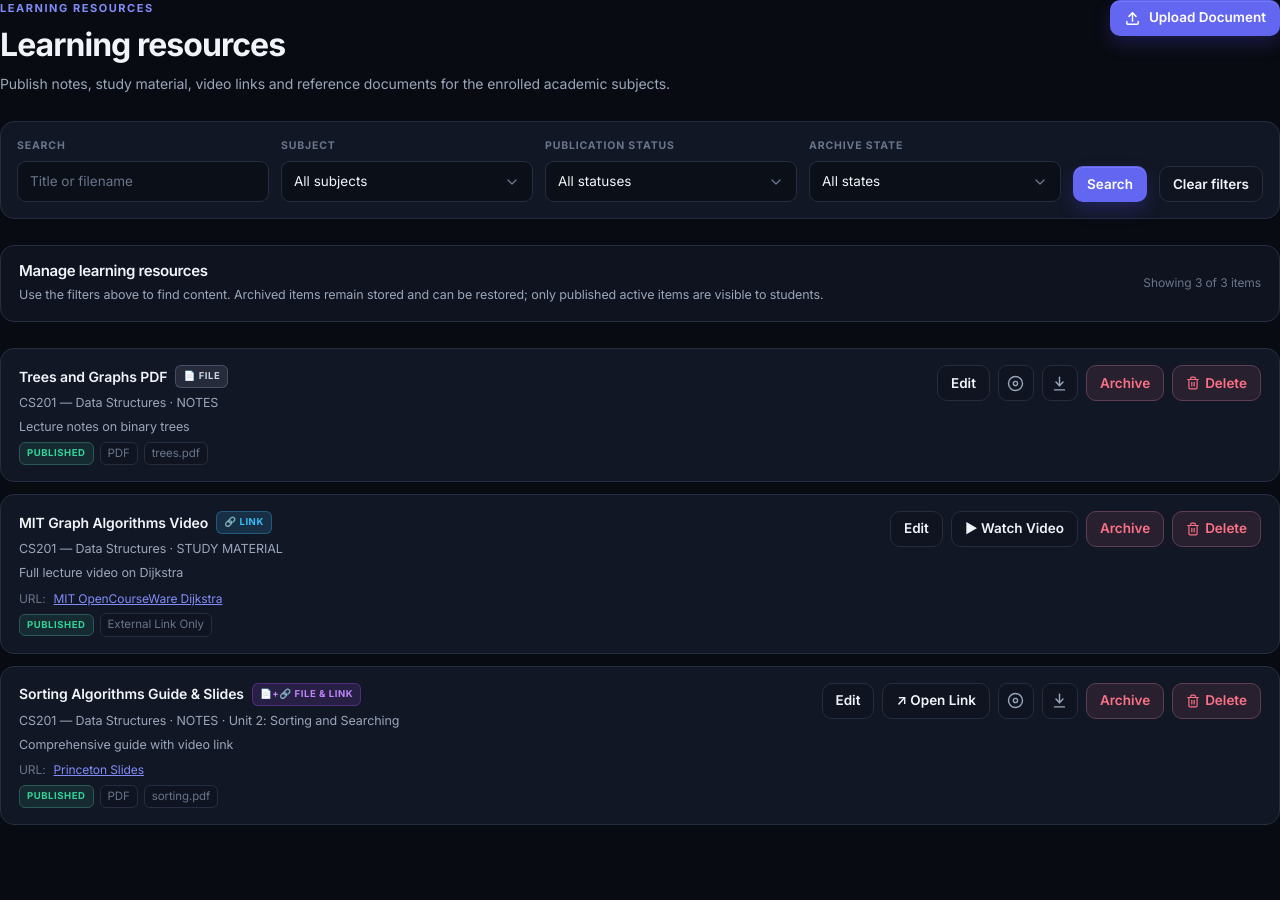
it: AdminContentManager — Learning Resource Sources (FILE, LINK, BOTH) › validates URL when External Link source is selected
Click the button "Upload Document" at [1195, 18], box [1110, 0, 1279, 36]
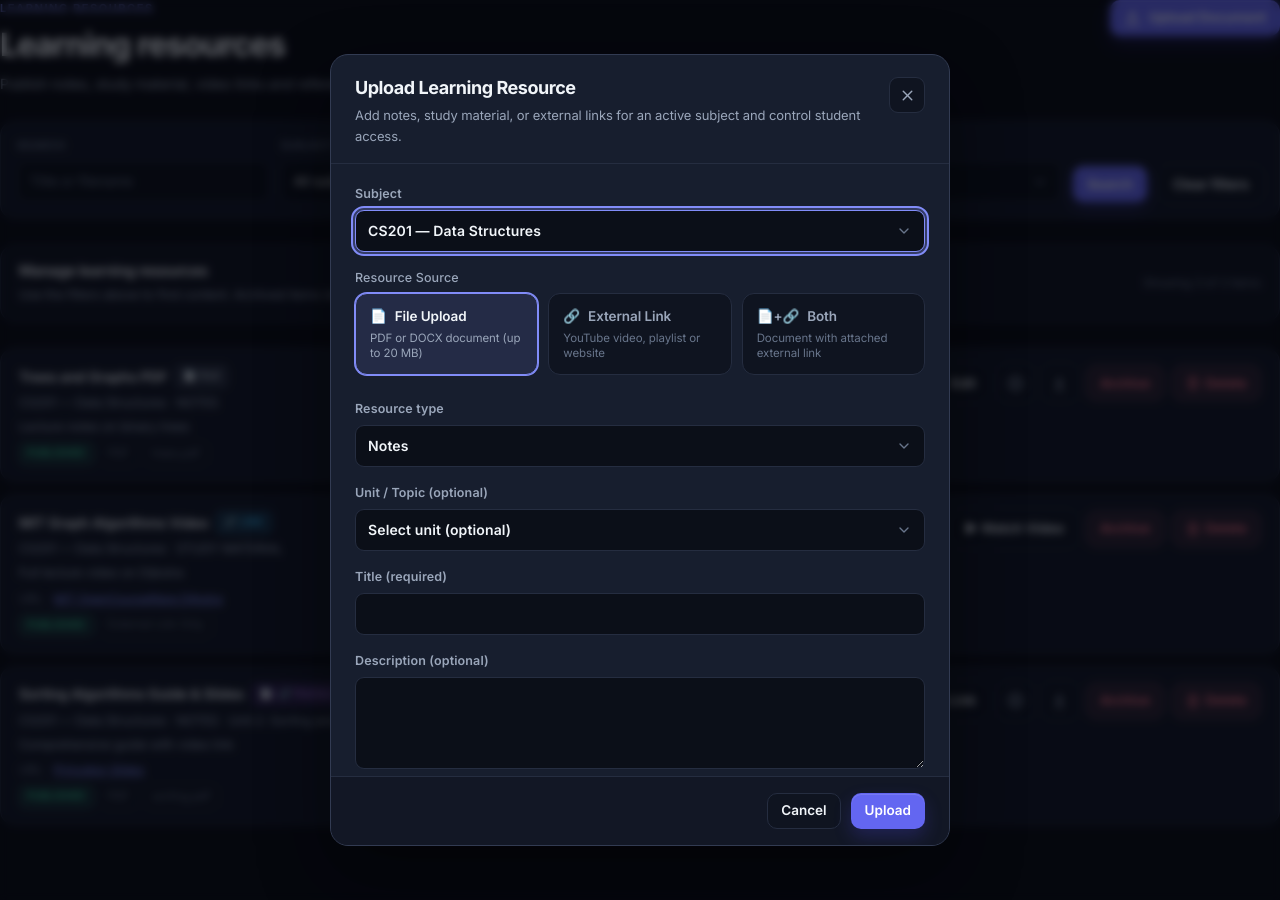
Result: the dialog is shown at [330, 54, 950, 846]
Note: Switch to External Link
Click the radio button labelled "External Link" at [640, 334], box [548, 293, 732, 375]
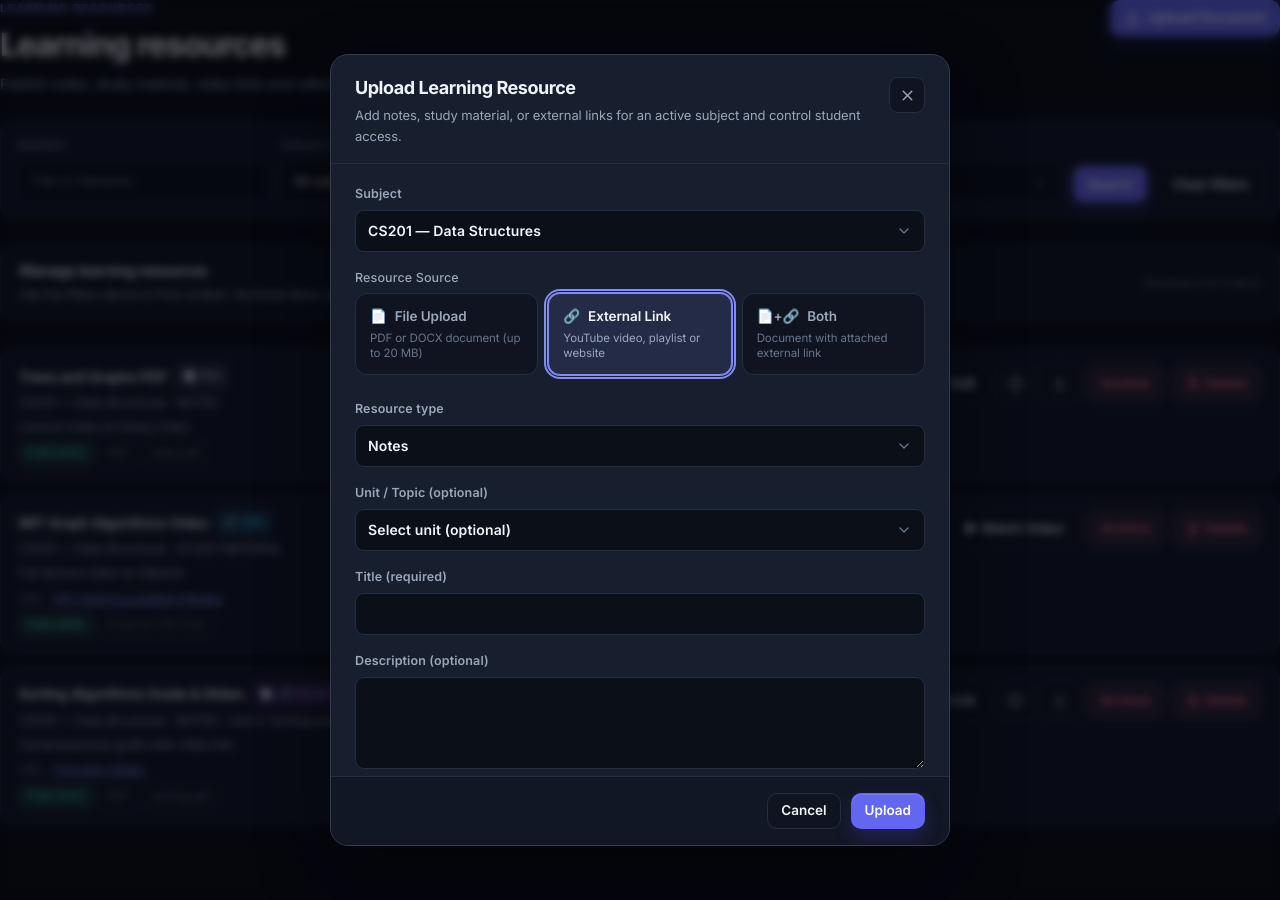
Note: Fill title but leave URL empty
Type "Awesome Course" into the field labelled "Title (required)" at [640, 614], box [355, 593, 925, 635]
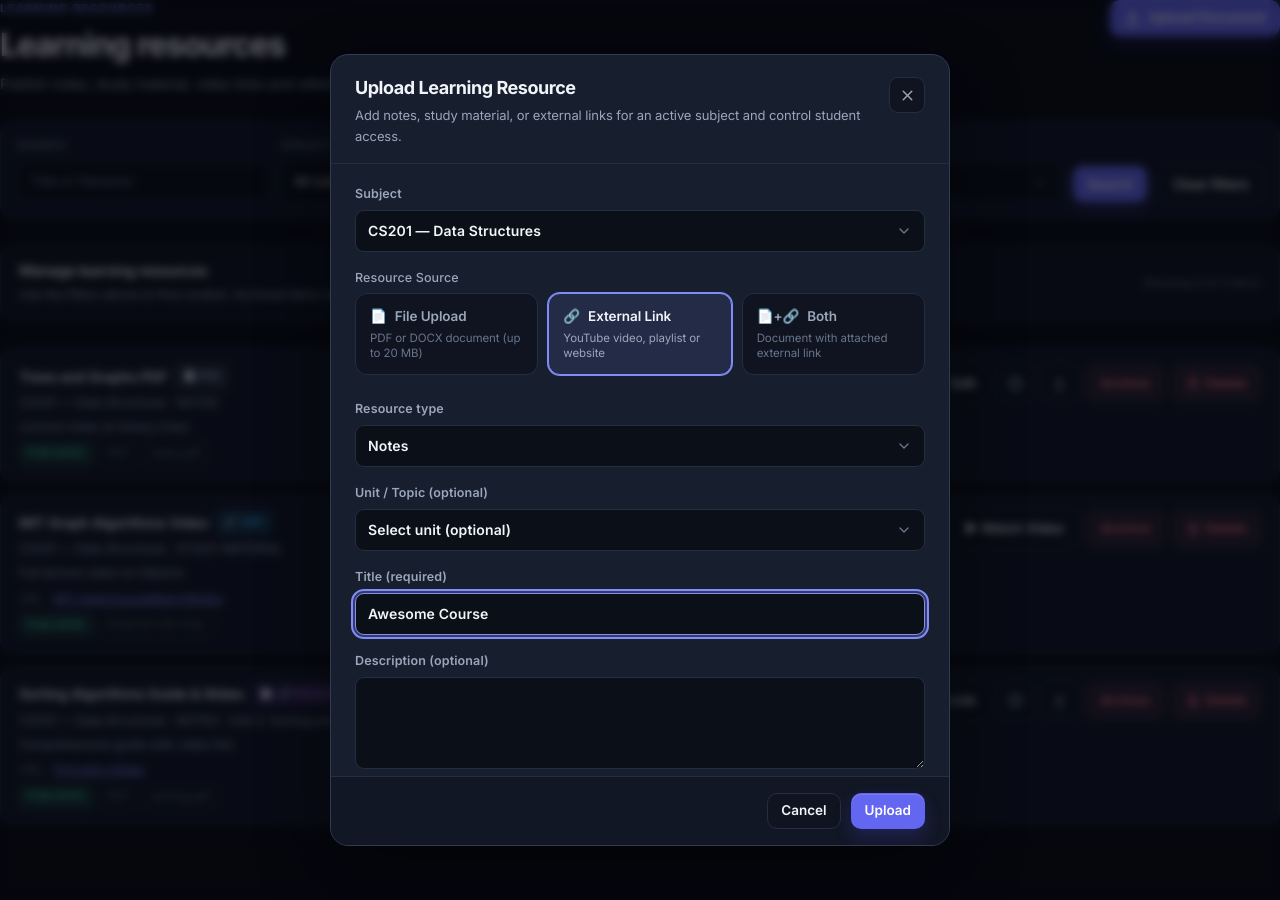
Note: Click submit
Click the button "Upload" at [888, 811], box [851, 793, 925, 829]
(page scrolled)
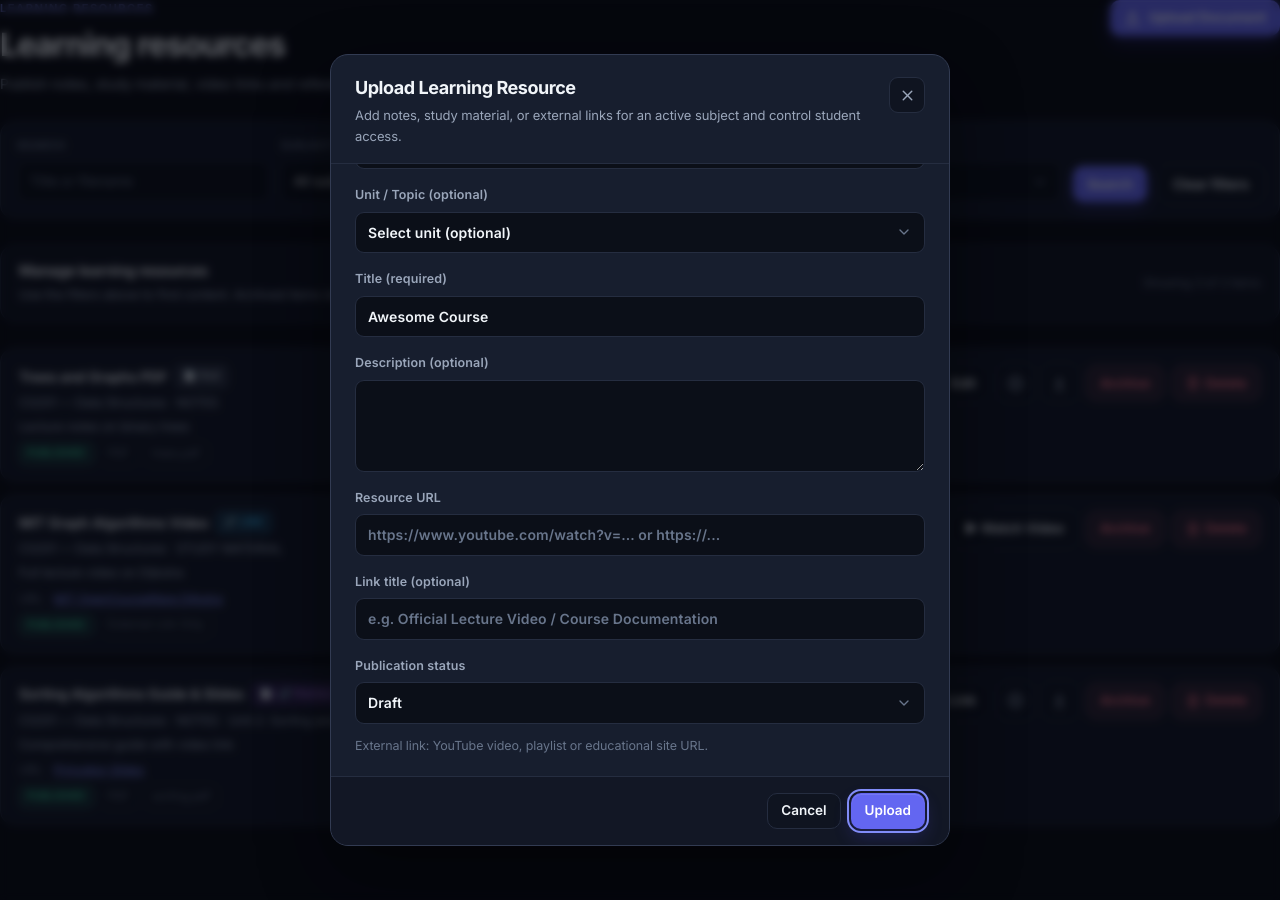
Note: Fill invalid URL
Type "not-a-valid-url" into the field with placeholder "https://www.youtube.com/watch?v=... or https://..." at [640, 535], box [355, 514, 925, 556]
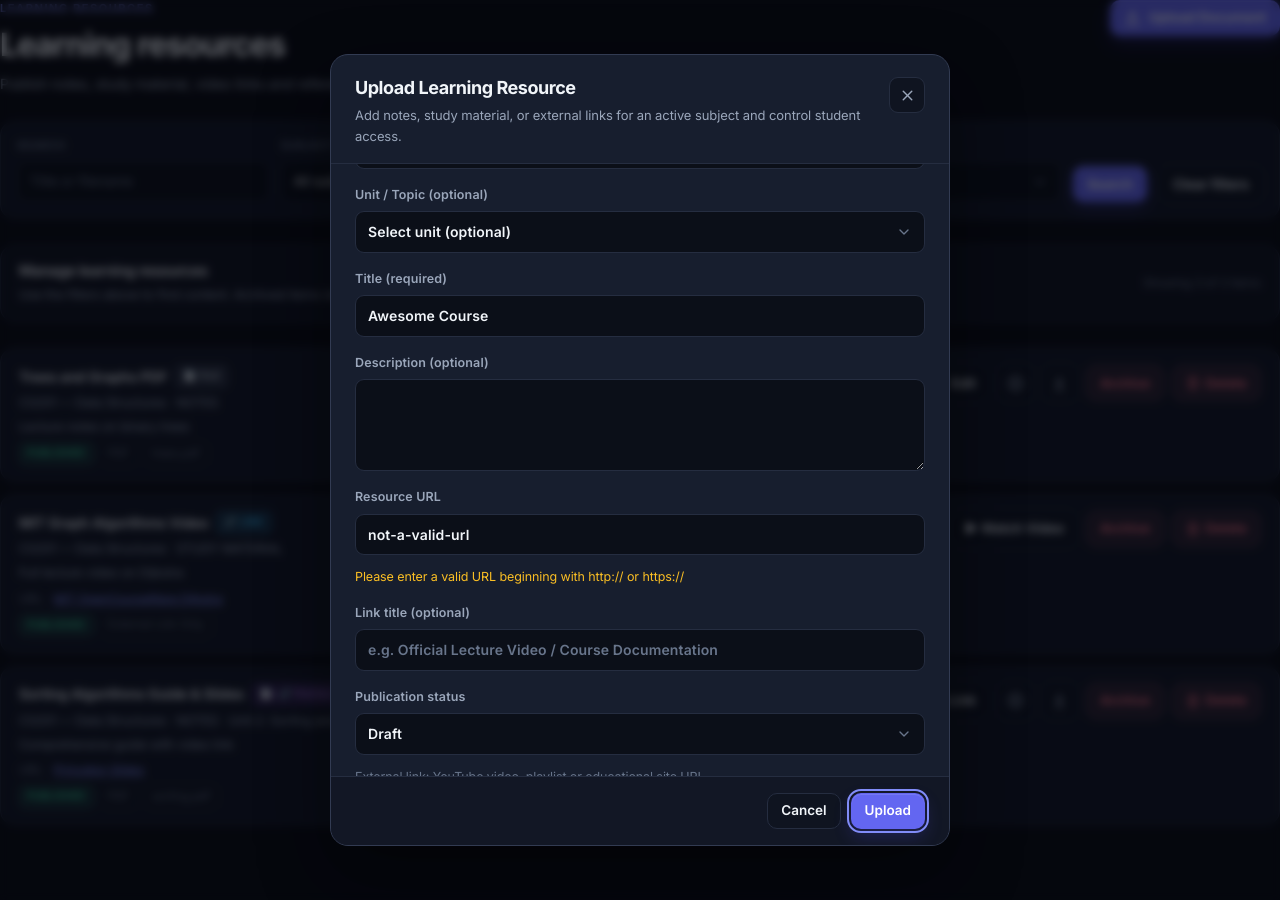
Click the button "Upload" at [888, 811], box [851, 793, 925, 829]
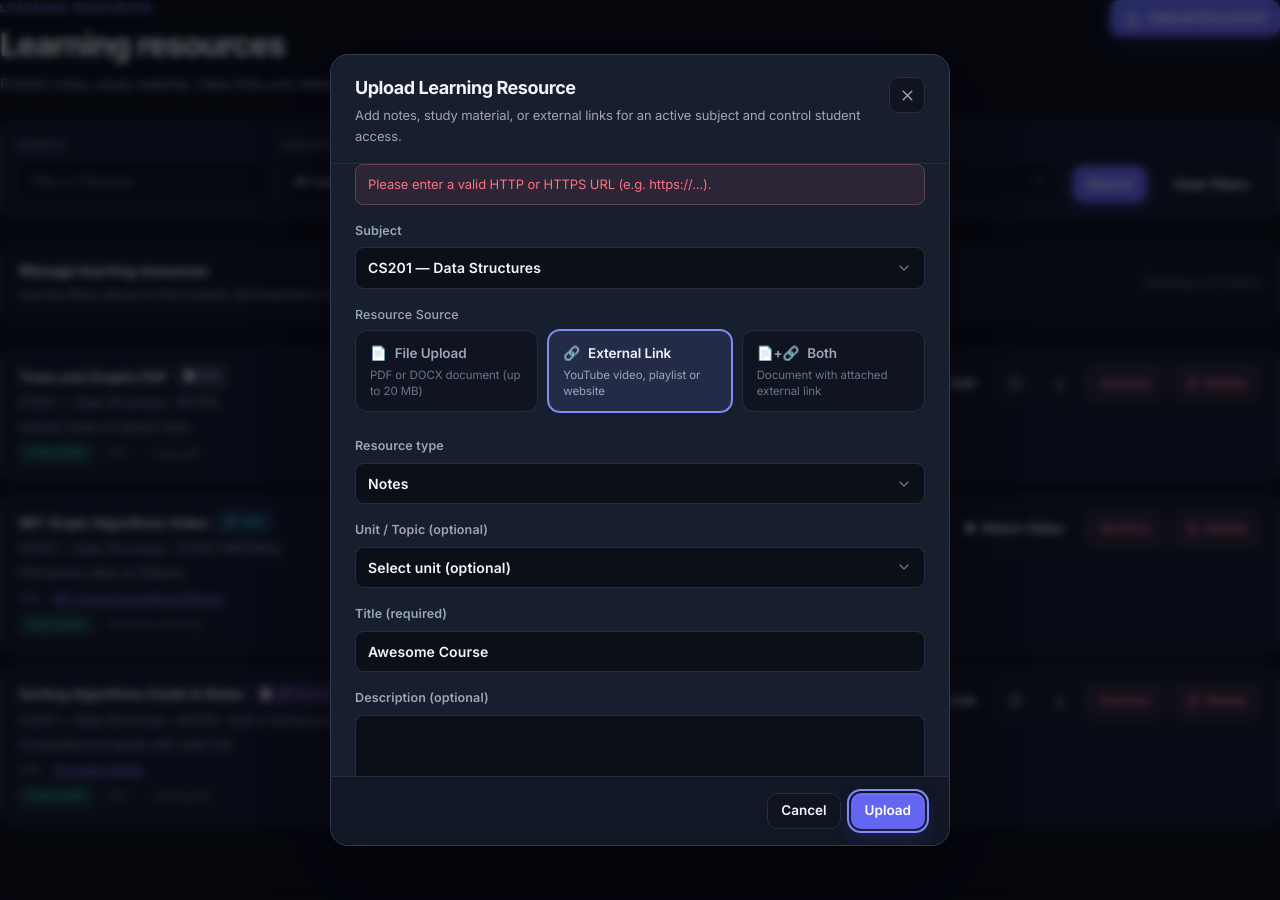
Result: the text "Please enter a valid HTTP or HTTPS URL (e.g. https://...)." is shown at [355, 164, 925, 205]
